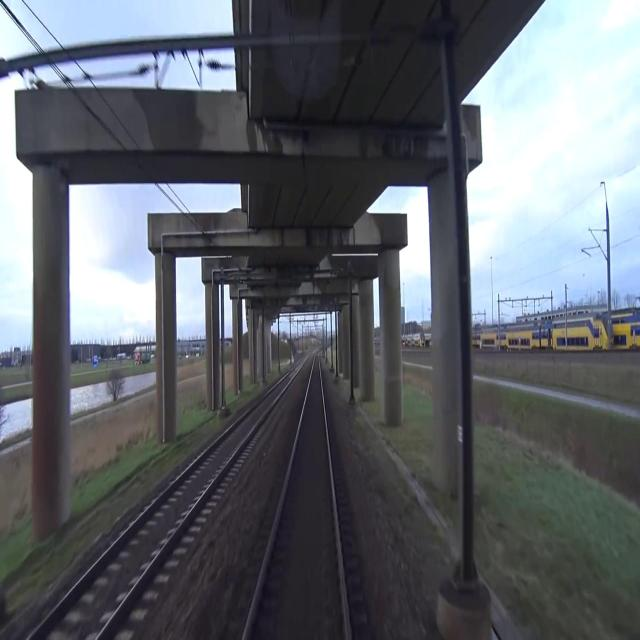rail-track: (33, 372, 293, 639), (246, 355, 346, 639)
